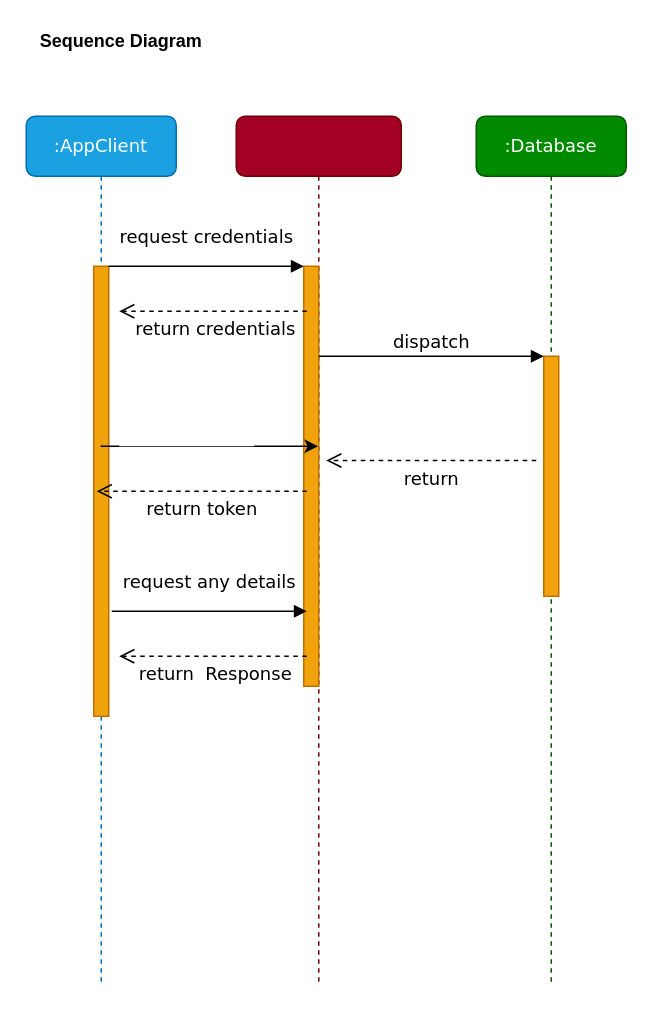
The diagram is 653 pixels wide and 1013 high, and some of its shapes have lost their labels. Each missing label, with the centre of its shape:
:Authmicroservice Aplication: the point at 318,550
request token: the point at 186,431
